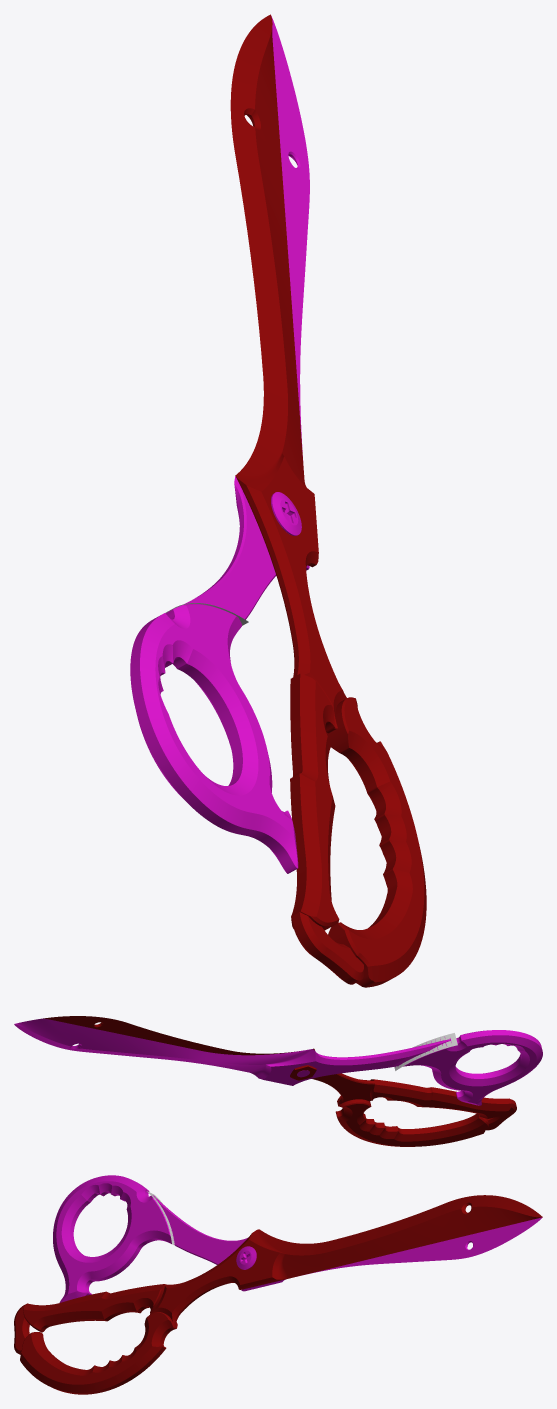
3 views of the same model, one above another, from view 1: azimuth 30°, elevation 25°; view 2: azimuth 150°, elevation 25°; view 3: azimuth 270°, elevation 25° (orthographic). The views are drawn at different scales.
Parts seen in each view (by area): view 1: Solid1:1, Solid1; view 2: Solid1, Solid1:1, Srf1, Solid1:3; view 3: Solid1:1, Solid1, Solid1:2.
Boxes of the visible parts, x1,y1,x2,y2 form: Solid1:1: [230, 14, 426, 987]; Solid1: [130, 16, 309, 873]; Solid1: [14, 1018, 542, 1105]; Solid1:1: [43, 1016, 516, 1146]; Srf1: [394, 1033, 457, 1070]; Solid1:3: [290, 1065, 316, 1080]; Solid1:1: [14, 1195, 542, 1394]; Solid1: [53, 1175, 542, 1302]; Solid1:2: [236, 1246, 256, 1269].
Bounding box in the file's own units: 0.7054 × 0.593 × 1.09.
